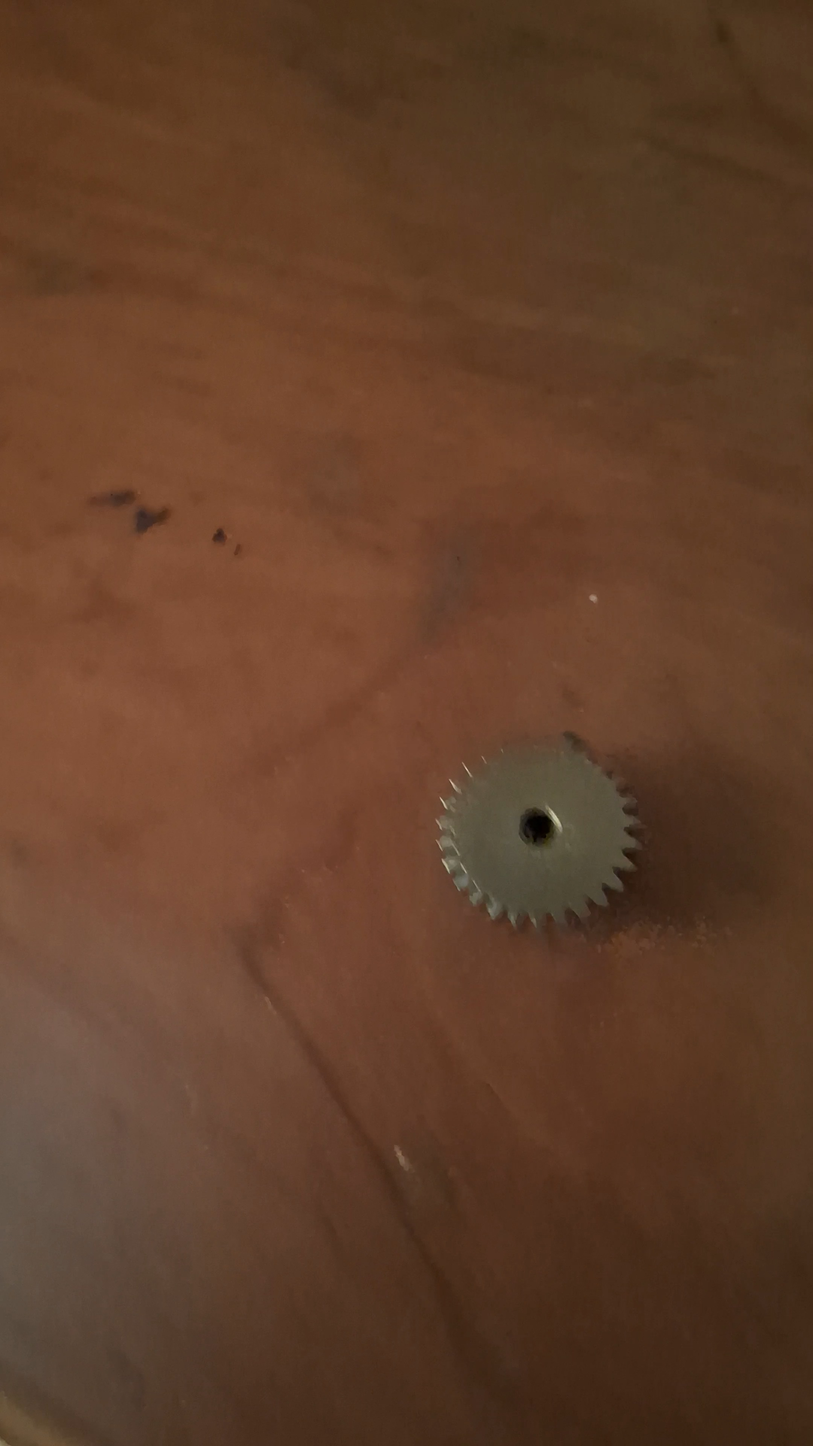spur gear: (438, 736, 639, 926)
